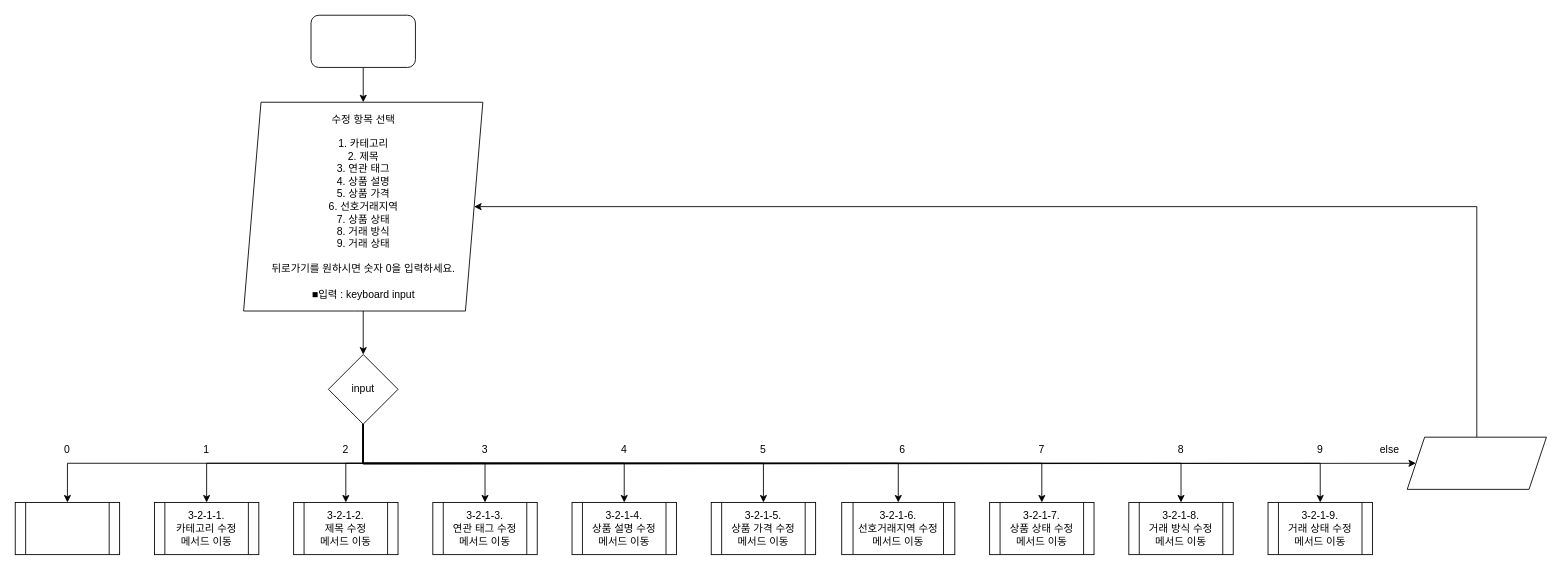
This 1562x570 diagram has some shape labels left out. Each missing label, with the centre of its shape:
"3-2. 상품 수정 메서드 이동" belongs at (x=67, y=528).
"수정 항목 선택 메서드 진입" belongs at (x=362, y=40).
"잘못 입력하셨습니다. 다시 입력해주세요." belongs at (x=1476, y=462).
